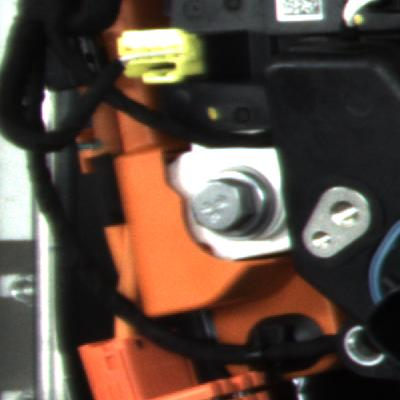nut_b: (184, 164, 292, 248)
